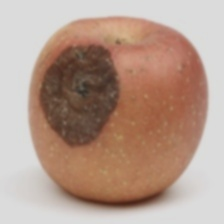apple: (26, 0, 221, 193)
